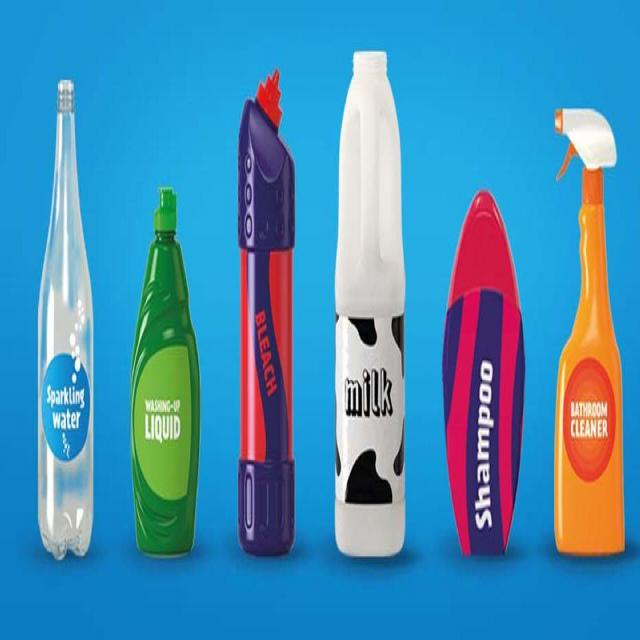plastic_bottle: (337, 52, 406, 554), (553, 113, 627, 558), (446, 192, 521, 559), (241, 70, 297, 555), (41, 79, 97, 559), (134, 191, 198, 556)
